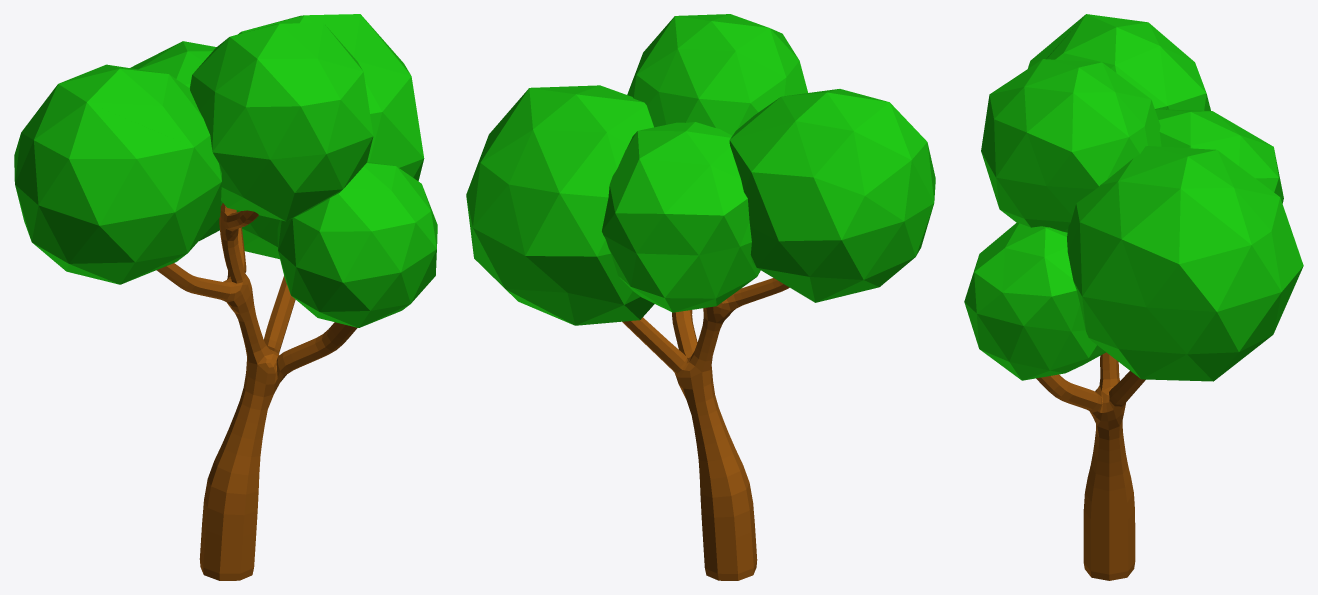
Rendered from trees.fbx.
The picture shows the model from 3 angles, left to right: view 1: azimuth 30°, elevation 25°; view 2: azimuth 150°, elevation 25°; view 3: azimuth 270°, elevation 25°; orthographic projection. The views are drawn at different scales.
Parts seen in each view (by area): view 1: Leavs, Tree; view 2: Leavs, Tree; view 3: Leavs, Tree.
Part boxes in pixels (x1,y1,x2,y2): Leavs: (14, 14, 437, 327); Tree: (156, 203, 357, 580); Leavs: (466, 14, 935, 325); Tree: (622, 278, 789, 580); Leavs: (964, 14, 1303, 381); Tree: (1036, 352, 1145, 580).
Size of the model in its own units: 251 by 318 by 188.
